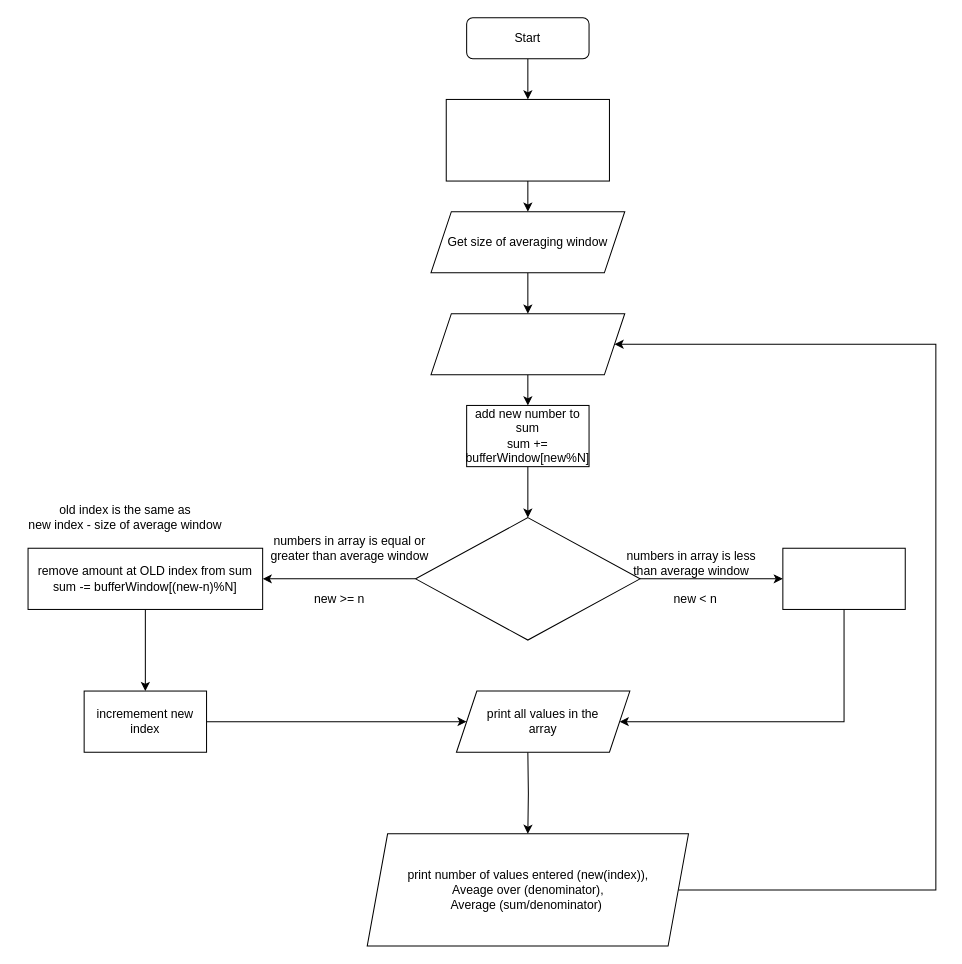
Some shapes in this 962 by 964 pixel diagram are drawn without their labels. The centre of each missing label's shape, as x and y in pixels:
"are there more numbers in array, than the size of the average window?" goes at (527,578).
"Declare Variables n, new (index), bufferWindow[N], denonimator, sum" goes at (527,139).
"get new number bufferWindow[new%N]" goes at (527,344).
"increment new ndex, and denominator" goes at (843,578).
